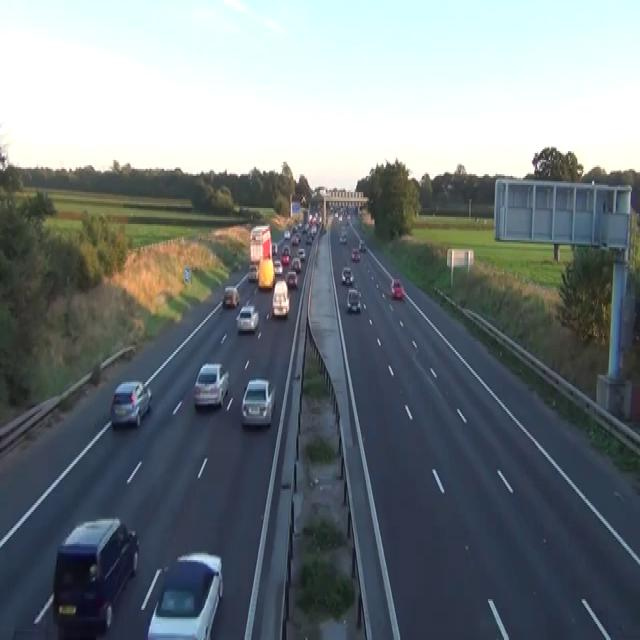Car: (52, 515, 139, 633), (147, 551, 223, 638), (110, 378, 152, 428), (193, 361, 229, 409), (241, 378, 276, 426), (272, 279, 289, 317), (235, 304, 258, 332), (222, 284, 239, 308), (346, 288, 361, 313), (390, 277, 404, 299), (341, 265, 354, 284), (285, 270, 298, 288), (280, 245, 290, 265), (247, 263, 258, 281), (291, 256, 301, 272), (351, 247, 360, 261), (273, 260, 282, 274), (297, 247, 305, 261), (339, 231, 346, 244), (291, 235, 300, 245), (358, 240, 365, 251), (271, 242, 277, 254), (305, 234, 312, 243), (300, 194, 306, 204), (283, 230, 290, 238), (321, 222, 326, 233), (291, 224, 297, 233), (310, 226, 316, 234), (346, 215, 350, 224), (341, 226, 346, 233), (338, 212, 342, 220), (334, 210, 338, 217), (329, 202, 332, 210)
Truck: (248, 224, 272, 281)
